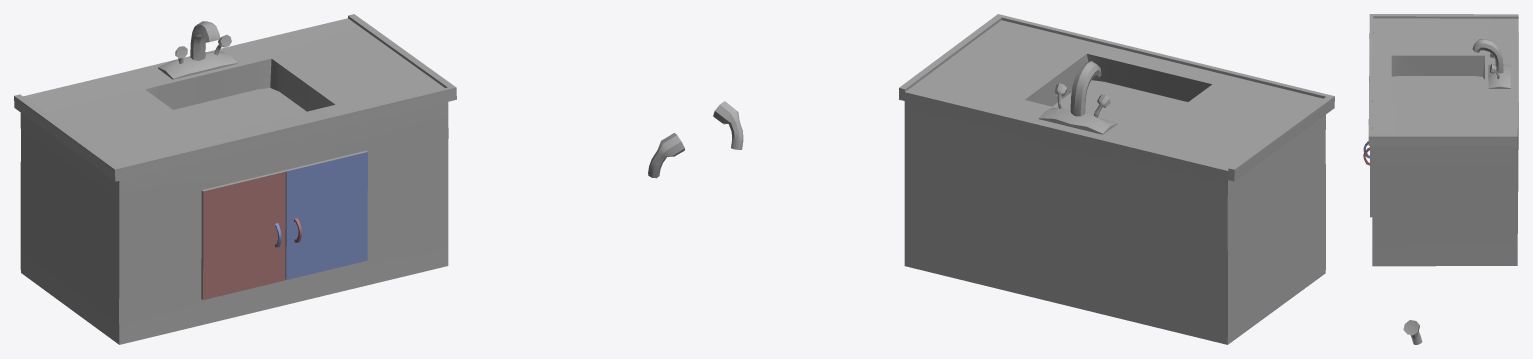
Rendered from Pia.fbx.
3 renders of one model, left to right at view 1: azimuth 30°, elevation 25°; view 2: azimuth 150°, elevation 25°; view 3: azimuth 270°, elevation 25°, orthographic. The views are drawn at different scales.
Parts seen in each view (by area): view 1: Pia1, pCube5; view 2: Pia1, pCube5; view 3: Pia1, pCube5.
Boxes of the visible parts, x1,y1,x2,y2 form: Pia1: (14, 14, 456, 344); pCube5: (648, 133, 684, 178); Pia1: (899, 14, 1334, 344); pCube5: (713, 101, 743, 149); Pia1: (1363, 14, 1518, 266); pCube5: (1403, 320, 1422, 344).
Bounding box in the file's own units: 14.52 × 5.31 × 4.45.
